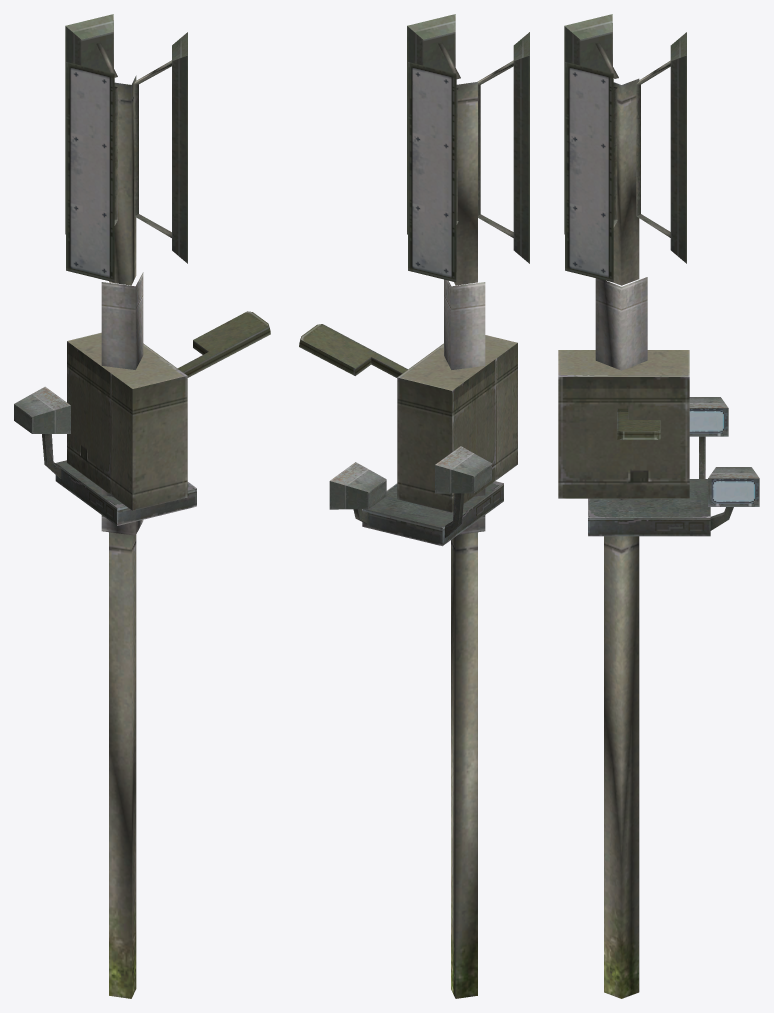
File: Building_Mainexit06_lod2.glb
3 views of the same model, side by side, from view 1: azimuth 30°, elevation 25°; view 2: azimuth 150°, elevation 25°; view 3: azimuth 270°, elevation 25° (orthographic).
Visible parts, largest first — view 1: xiutz_mainexit_06_lod2; view 2: xiutz_mainexit_06_lod2; view 3: xiutz_mainexit_06_lod2.
Part boxes in pixels (x1,y1,x2,y2): xiutz_mainexit_06_lod2: (14, 14, 270, 998); xiutz_mainexit_06_lod2: (299, 14, 529, 998); xiutz_mainexit_06_lod2: (558, 14, 759, 998).
Size of the model in its own units: 2.01 by 8.68 by 1.67.
1 material, 1 textured.
